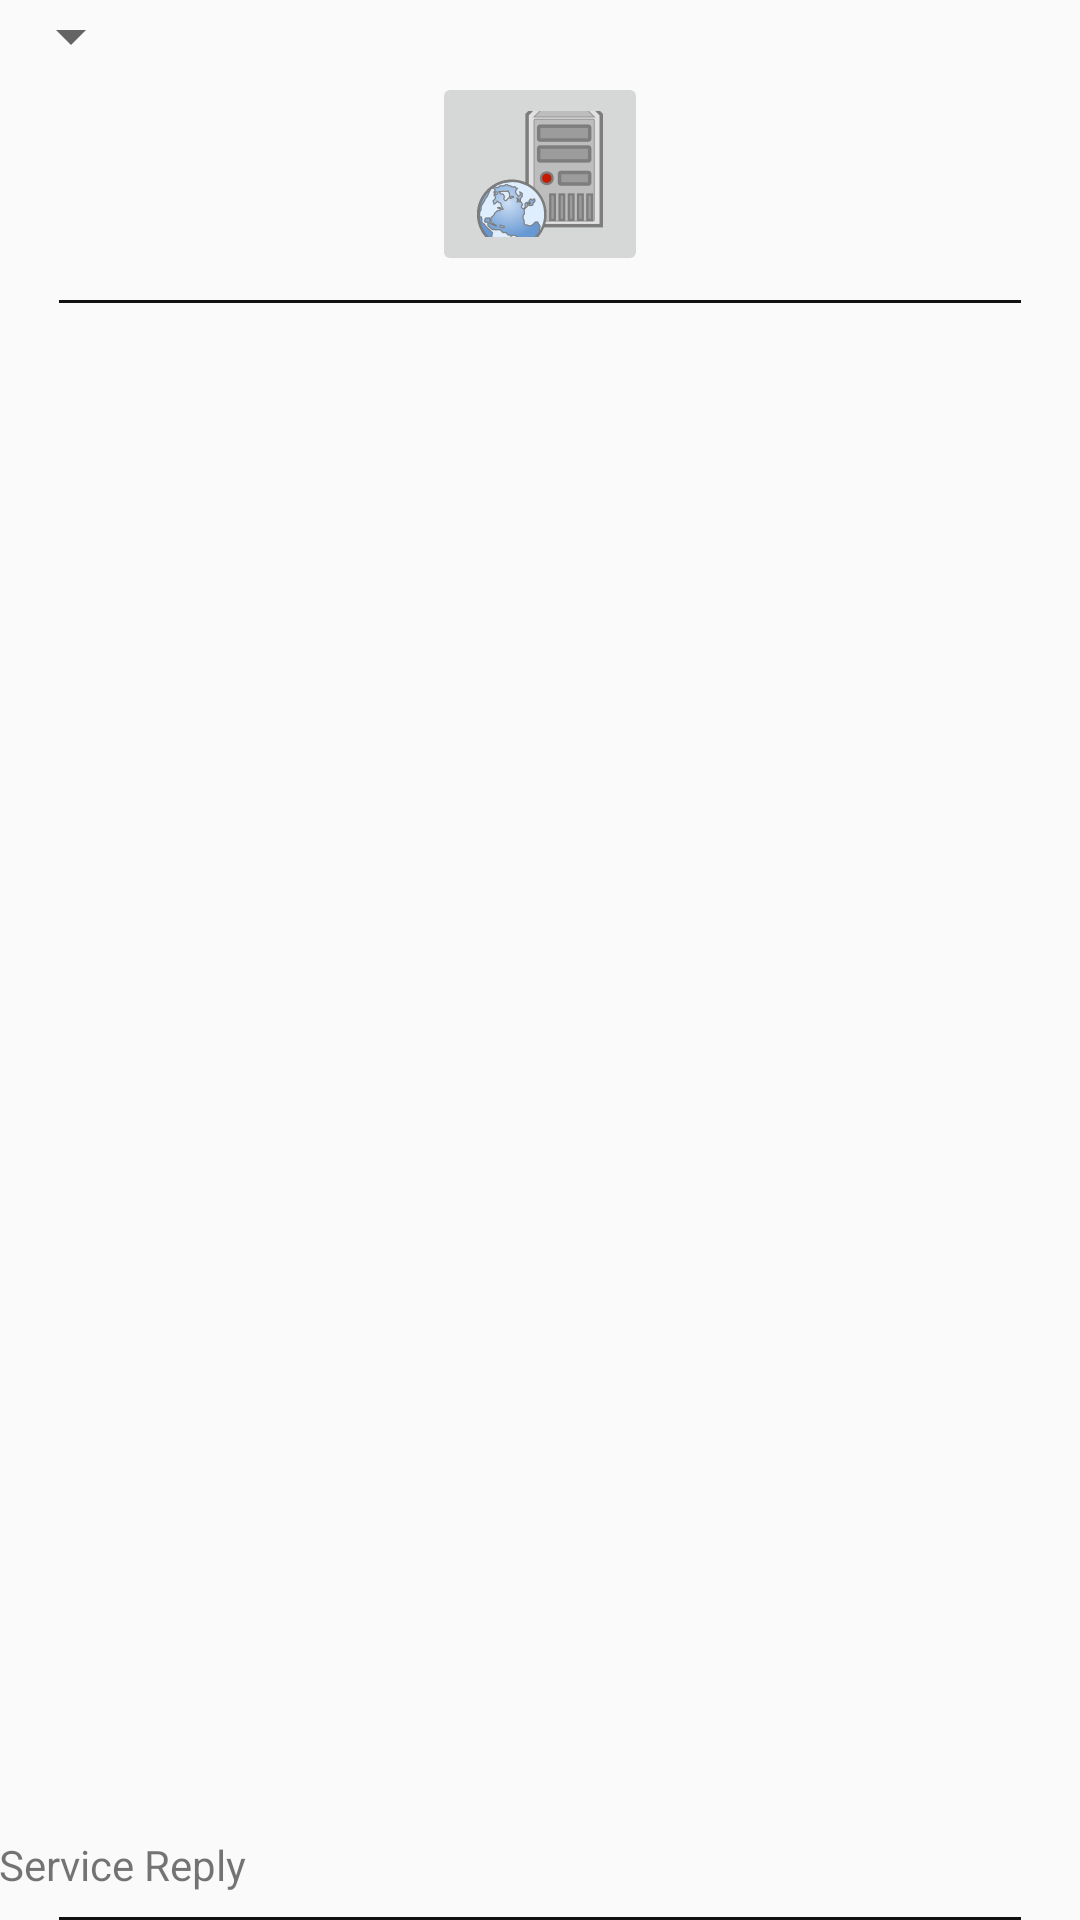

Icons on this 1080px x 1920px Android screen, each with the point to tap as point (x, y):
web server: point (540, 174)
